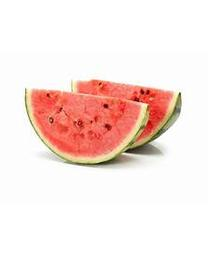watermelon: (22, 78, 184, 166)
